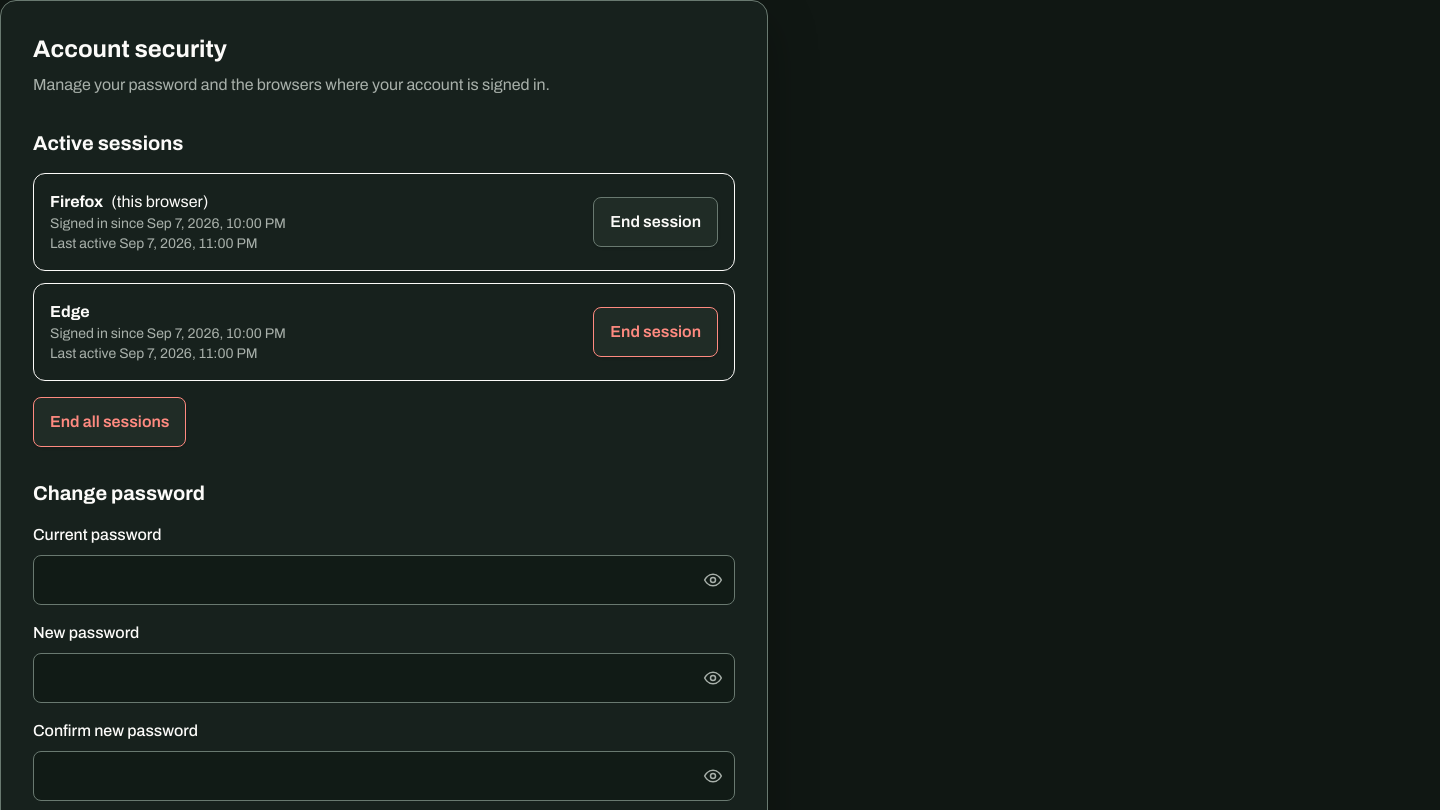
AccountSecurityView › reports rejected reauthentication inside the open dialog
Check: the element with test id "account-security-view" shows "Firefox", box top-left (50, 193), bottom-right (103, 210)
Step 1. Click the button with test id "end-other-session" → [656, 332], box top-left (593, 307), bottom-right (718, 357)
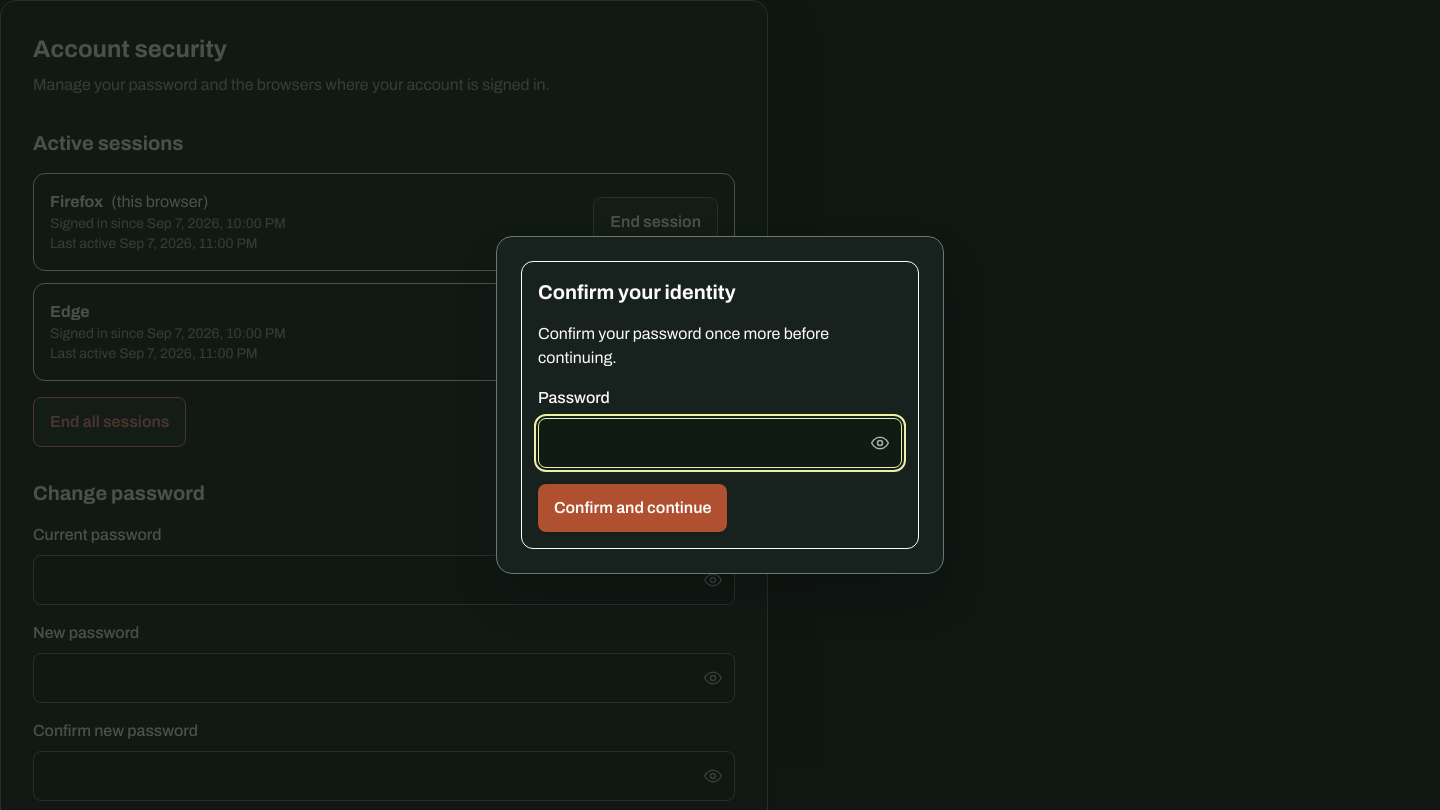
Step 2. Type "wrong-password" into the password field with id "reauthentication-password" → [720, 443], box top-left (538, 418), bottom-right (902, 468)
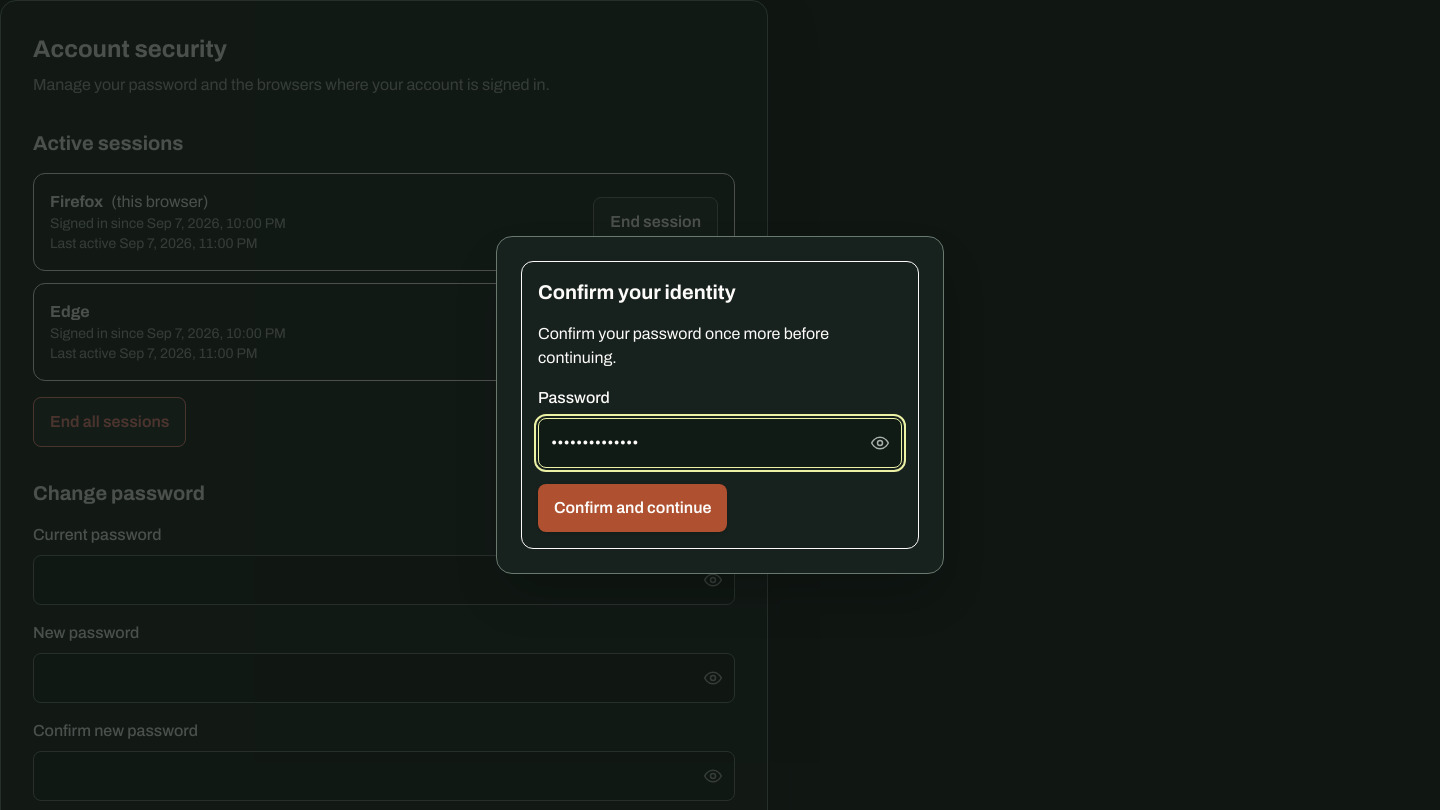
Step 3. Click the button with test id "reauthentication-submit" → [633, 508], box top-left (538, 484), bottom-right (728, 532)
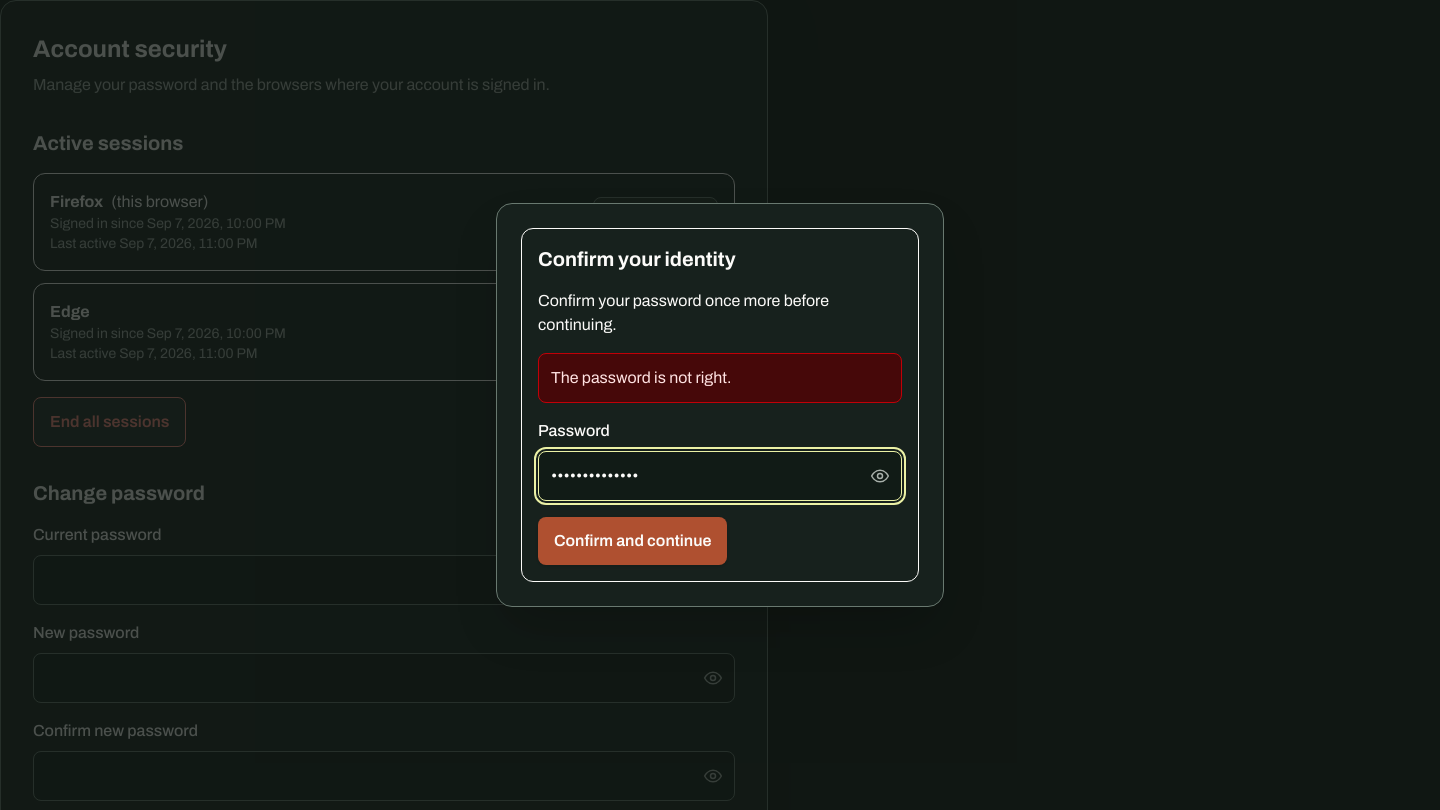
Check: the dialog is shown, box top-left (496, 203), bottom-right (944, 607)
Check: the message "The password is not right." is shown, box top-left (538, 353), bottom-right (902, 403)
